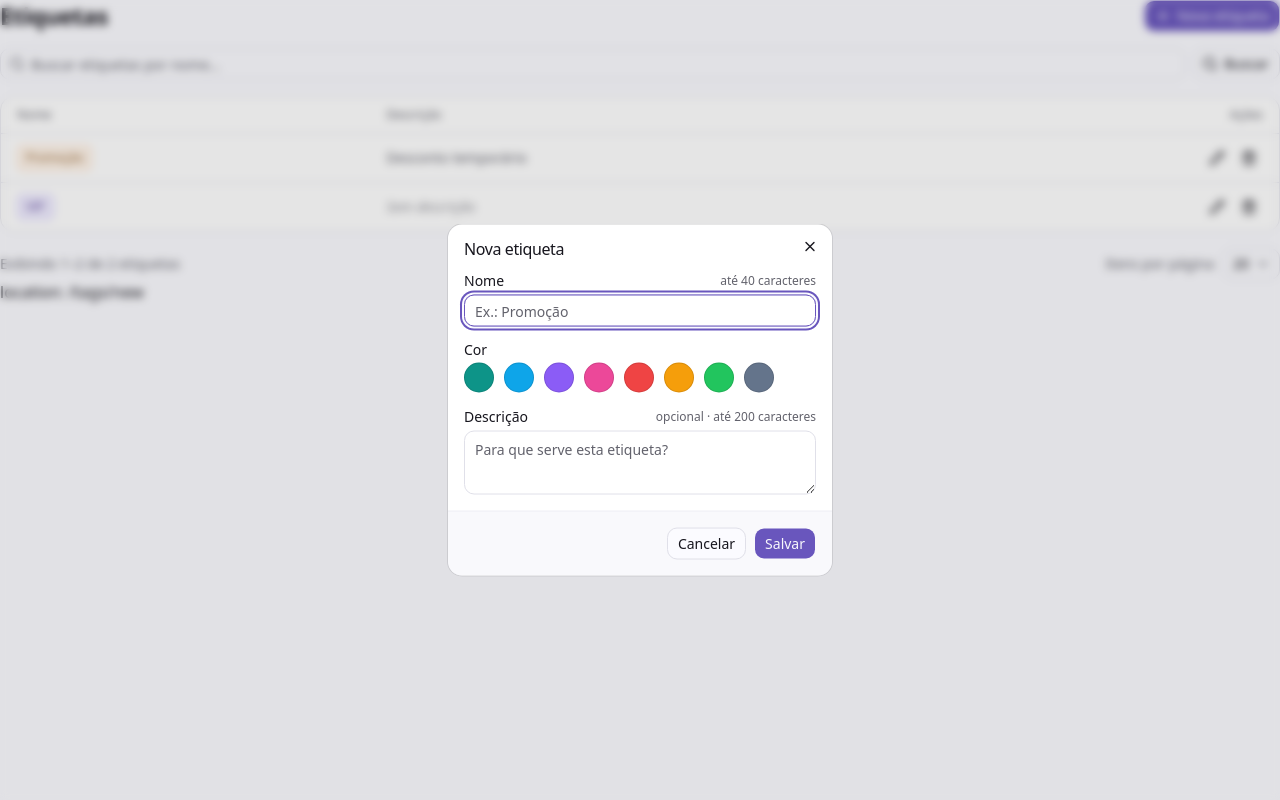
TagFormPage › create mode (/tags/new) › creates the tag, refreshes the list and returns to /tags on success (spec US2 scenario 1)
Expected: the heading "Nova etiqueta" is shown, [464,238,564,260]
In the field labelled "Nome": [640, 310] box [464,294,816,326], type "Sazonal"
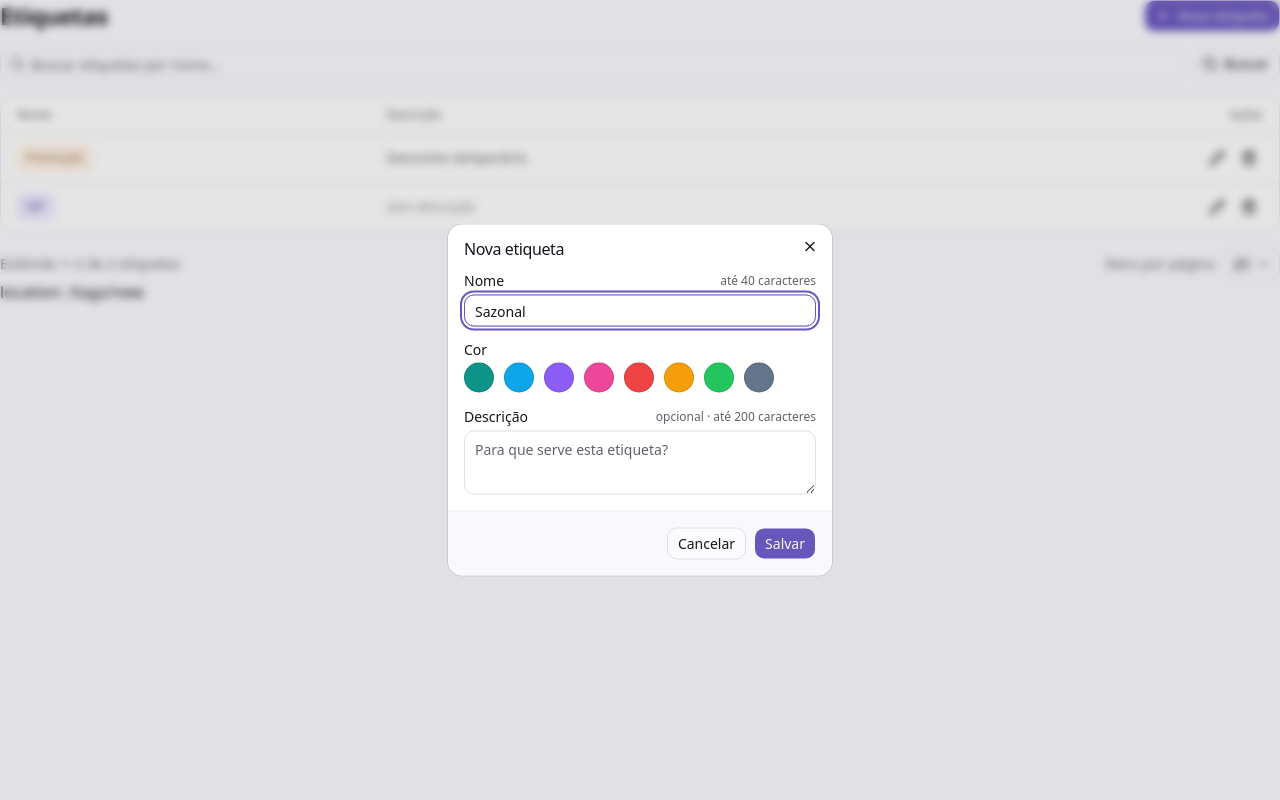
Click the radio button named "Azul": [519, 378] box [504,362,534,392]
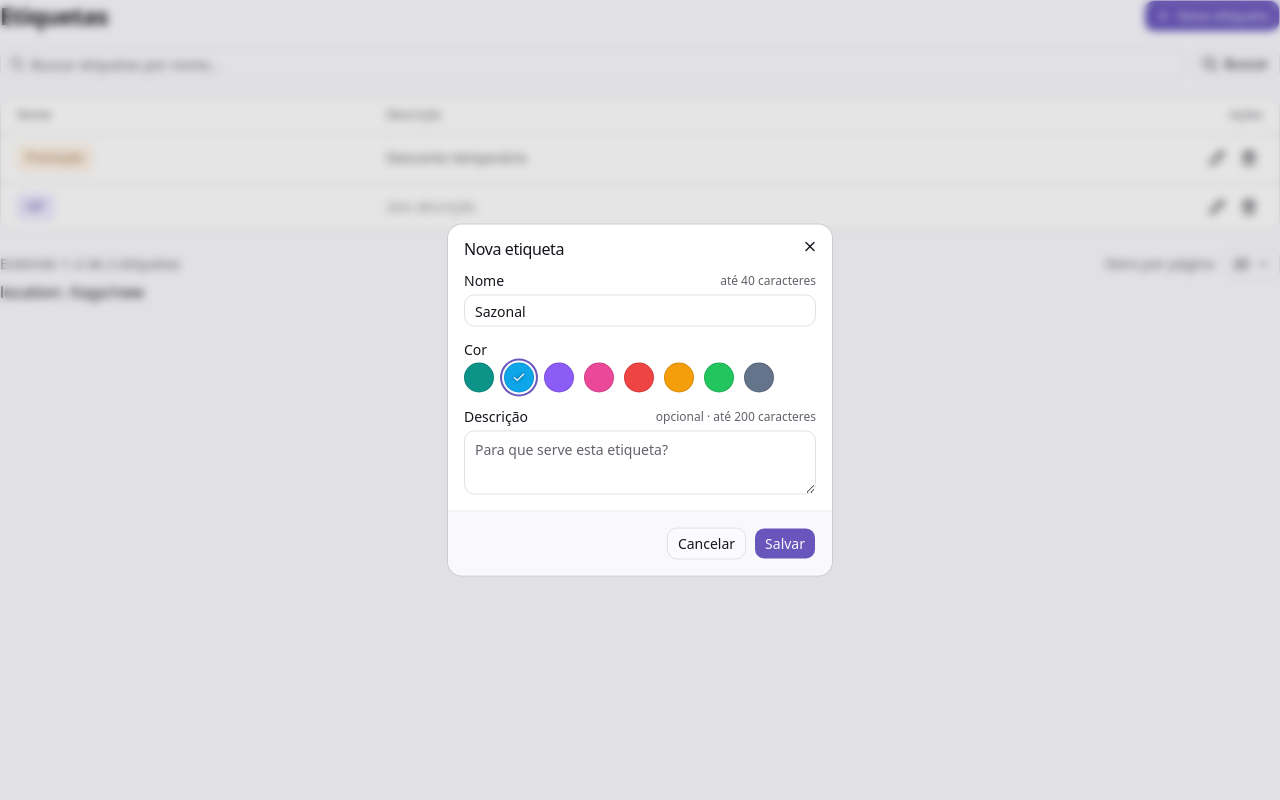
Click the button "Salvar": [785, 544] box [754,528,816,560]
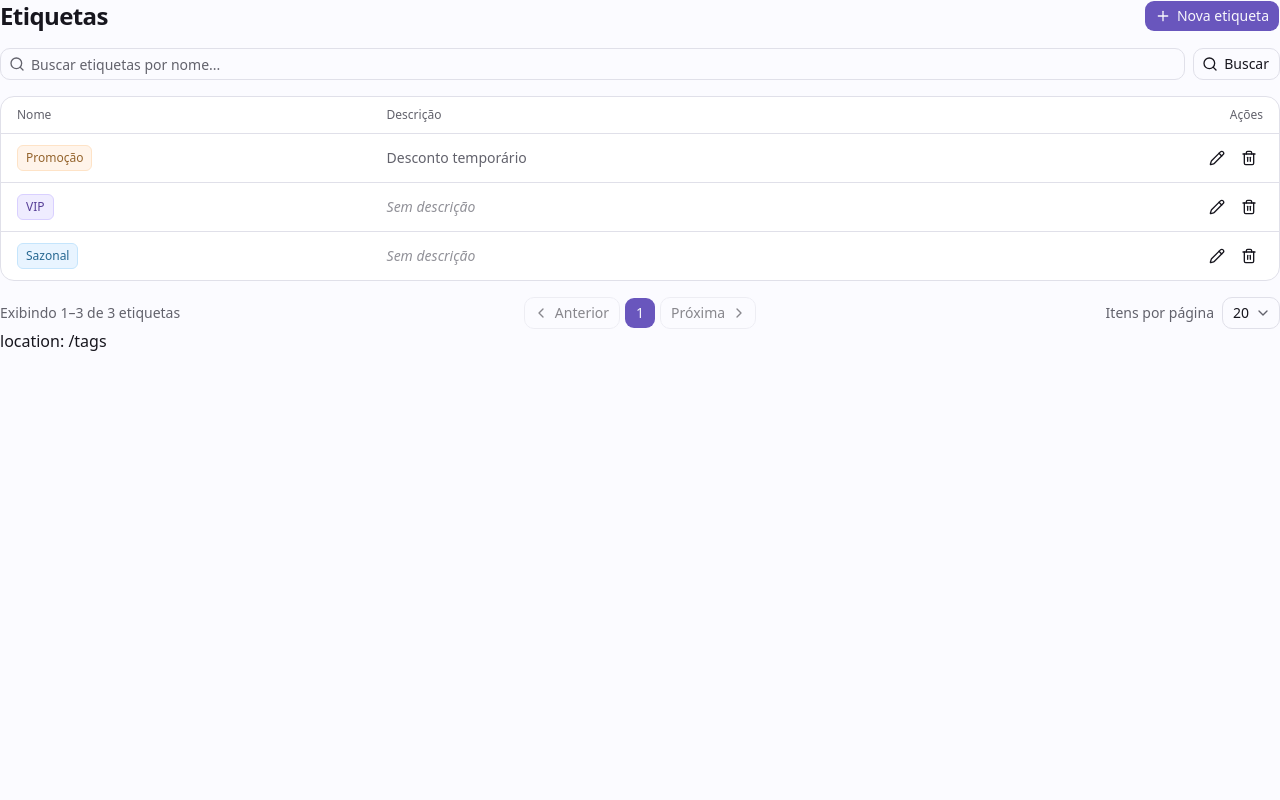
Now the text with test id "location" reads "location: /tags", box [0,330,107,352]
Now the text "Sazonal" is shown, box [17,243,78,269]
